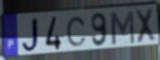4: (44, 15, 64, 52)
9: (90, 11, 108, 48)
C: (65, 16, 88, 48)
J: (20, 16, 42, 55)
M: (109, 9, 137, 47)
X: (134, 7, 157, 46)
